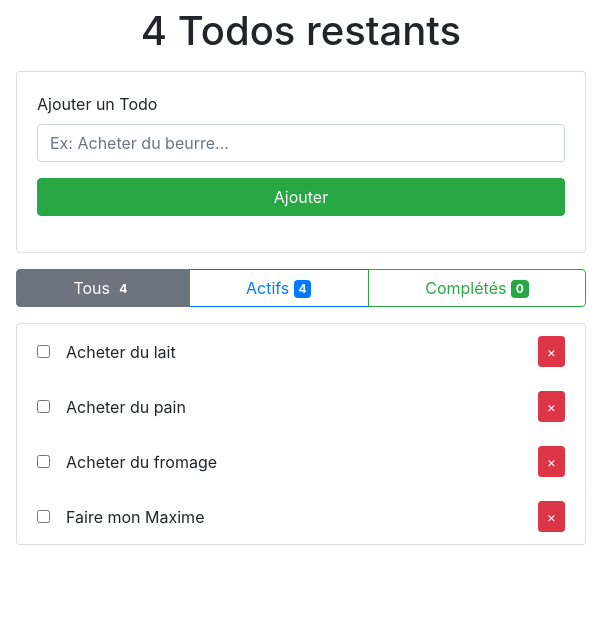
Test: Validation du formulaire › le message d'alerte disparaît après un ajout valide
Note: Provoquer l'alerte
Click the button "Ajouter". click: {"x": 301, "y": 197}
box: x1=37 y1=178 x2=565 y2=216
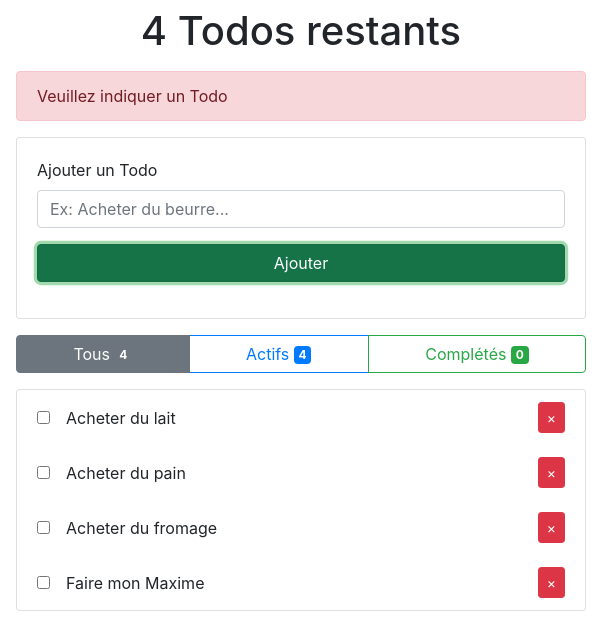
Result: the text "Veuillez indiquer un Todo" is shown at x1=16 y1=71 x2=586 y2=121
Type "Nouveau todo" into the field labelled "Ajouter un Todo". click: {"x": 301, "y": 209}
box: x1=37 y1=190 x2=565 y2=228
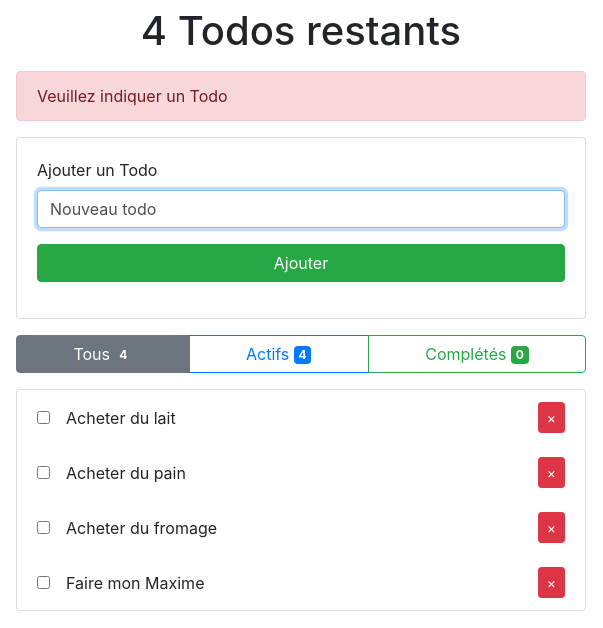
Click the button "Ajouter". click: {"x": 301, "y": 263}
box: x1=37 y1=244 x2=565 y2=282
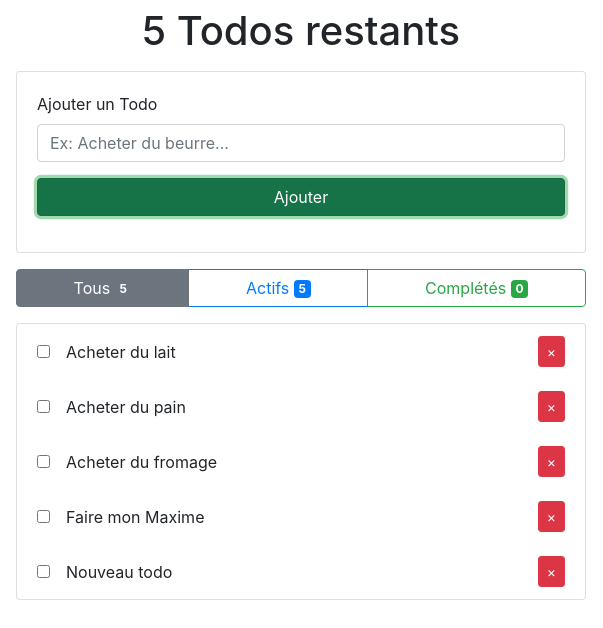
Result: the text "Veuillez indiquer un Todo" is gone
